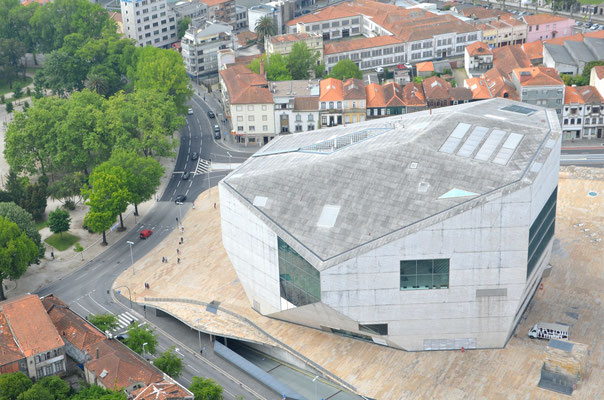musica: (217, 98, 563, 352)
